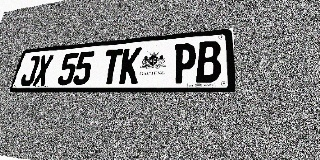5: (72, 51, 95, 85), (57, 52, 79, 85)
B: (196, 40, 221, 83)
J: (19, 56, 41, 86)
K: (118, 47, 142, 84)
P: (172, 42, 197, 83)
T: (100, 49, 123, 85)
X: (32, 55, 54, 86)
